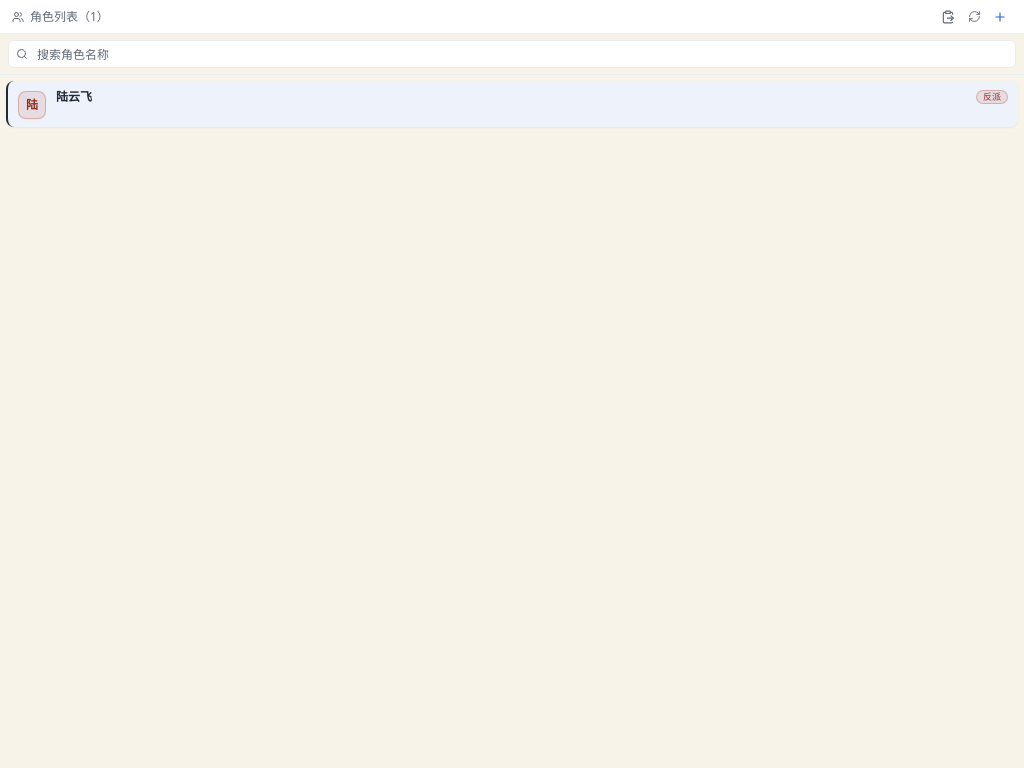
new character creation flow › opens a compact dialog instead of immediately writing a supporting placeholder
Click the button named "新建角色": click(1000, 16) [988,4,1012,28]
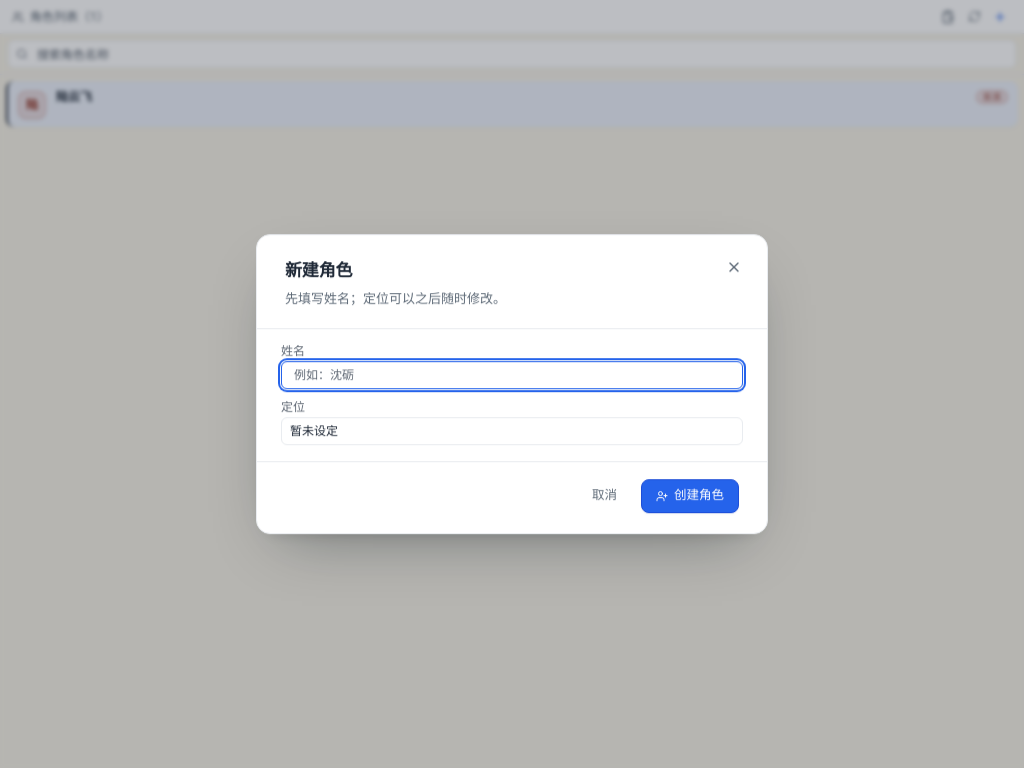
Now the dialog with test id "character-create-dialog" is shown, box [256,234,768,534]
Now the dropdown named "角色定位" shows "暂未设定", box [281,417,743,445]
